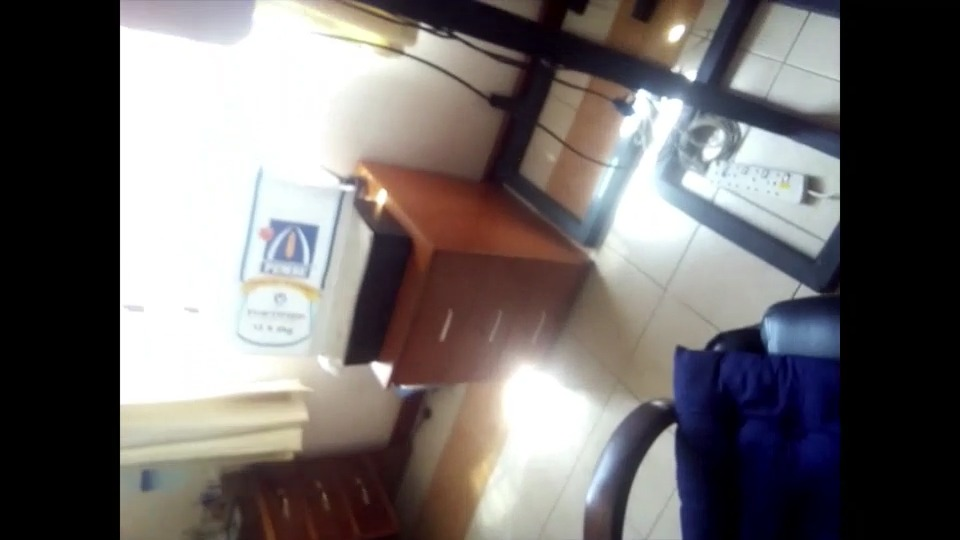wheat_flour_blue_label: (223, 163, 360, 339)
